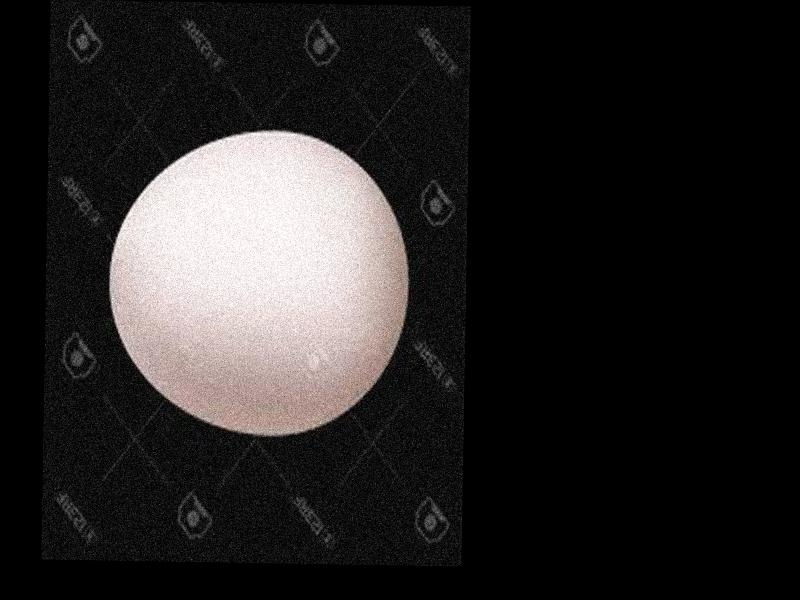Eggs: (109, 129, 409, 433)
